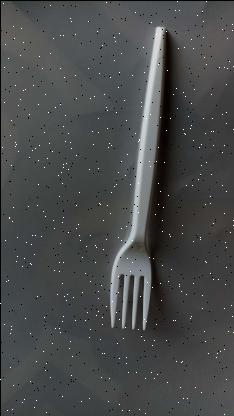Others: (99, 19, 173, 331)
